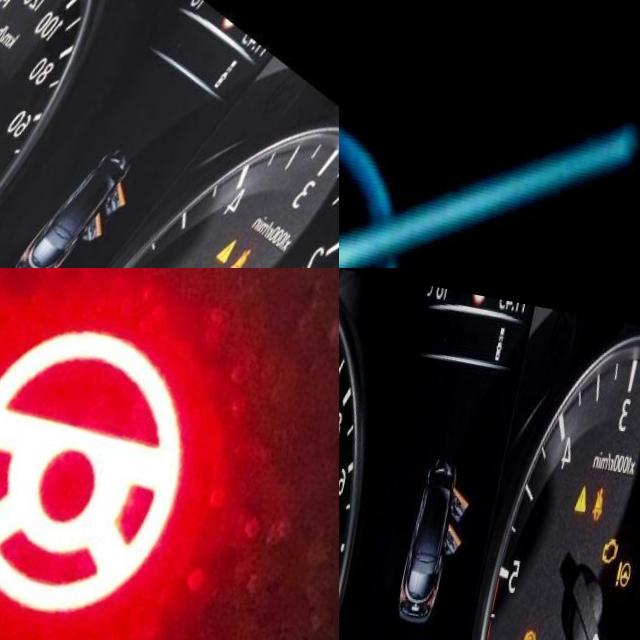Electronic Power Steering: (0, 284, 222, 617), (623, 536, 640, 569)
Seat Belt: (238, 225, 265, 261), (598, 468, 617, 503)
